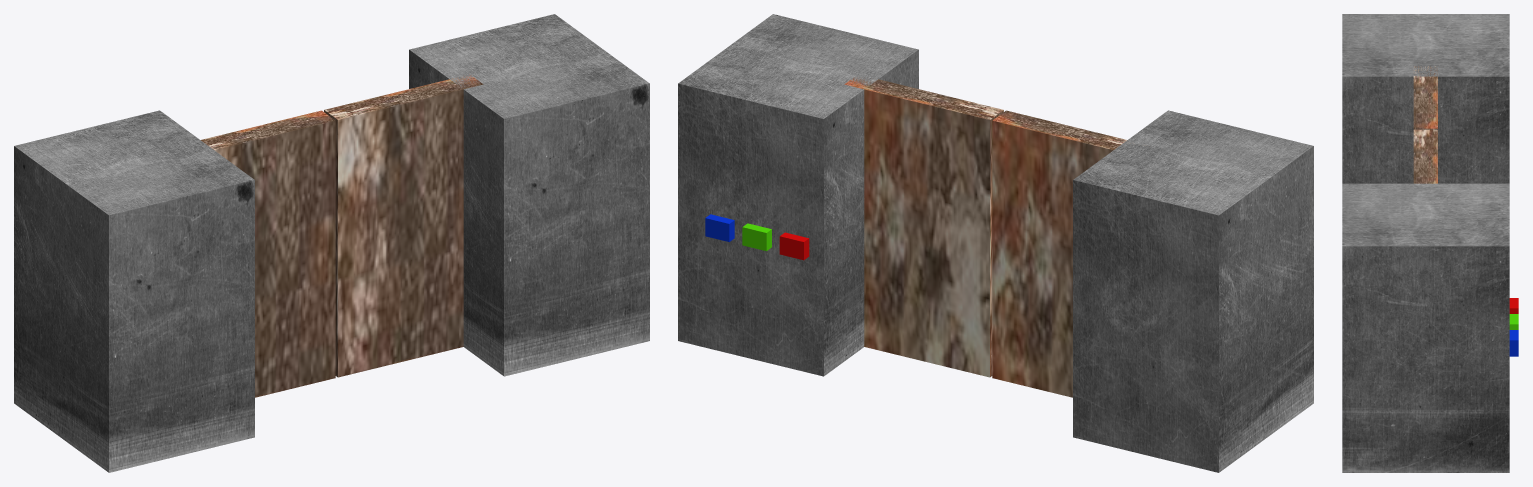
File: Exit.fbx
3 renders of one model, left to right at view 1: azimuth 30°, elevation 25°; view 2: azimuth 150°, elevation 25°; view 3: azimuth 270°, elevation 25°, orthographic. The views are drawn at different scales.
Parts seen in each view (by area): view 1: pCube1, pCube2, pCube4, pCube3; view 2: pCube1, pCube2, pCube4, pCube3, pCube5, pCube6, pCube7; view 3: pCube2, pCube1, pCube3, pCube4, pCube7.
Boxes of the visible parts, left/top/right/bottom form: pCube1: left=14, top=110, right=254, bottom=472; pCube2: left=409, top=14, right=649, bottom=376; pCube4: left=324, top=75, right=483, bottom=377; pCube3: left=201, top=110, right=335, bottom=397; pCube1: left=1073, top=110, right=1313, bottom=472; pCube2: left=678, top=14, right=918, bottom=376; pCube4: left=844, top=77, right=1003, bottom=377; pCube3: left=992, top=110, right=1130, bottom=397; pCube5: left=779, top=232, right=809, bottom=260; pCube6: left=742, top=223, right=771, bottom=251; pCube7: left=705, top=214, right=734, bottom=241; pCube2: left=1342, top=183, right=1509, bottom=472; pCube1: left=1342, top=14, right=1509, bottom=183; pCube3: left=1413, top=66, right=1437, bottom=129; pCube4: left=1413, top=129, right=1437, bottom=183; pCube7: left=1509, top=330, right=1518, bottom=356.
Bounding box in the file's own units: 27.52 × 12.52 × 8.84.
